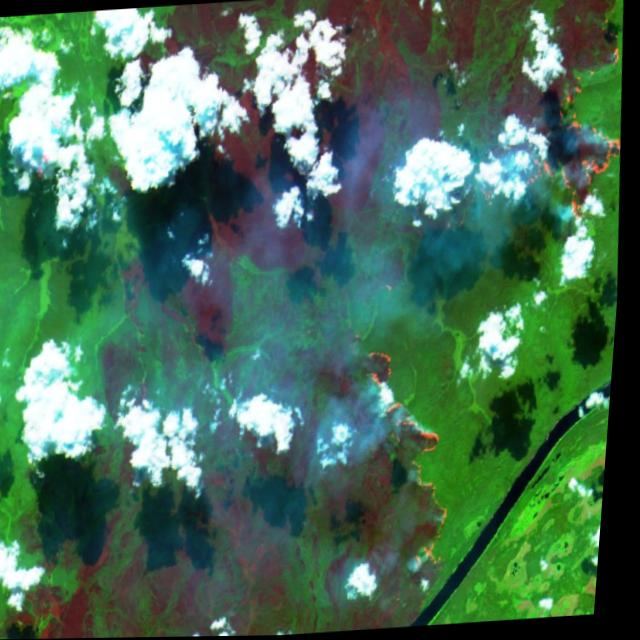fire: (461, 0, 636, 232), (325, 319, 472, 590)
